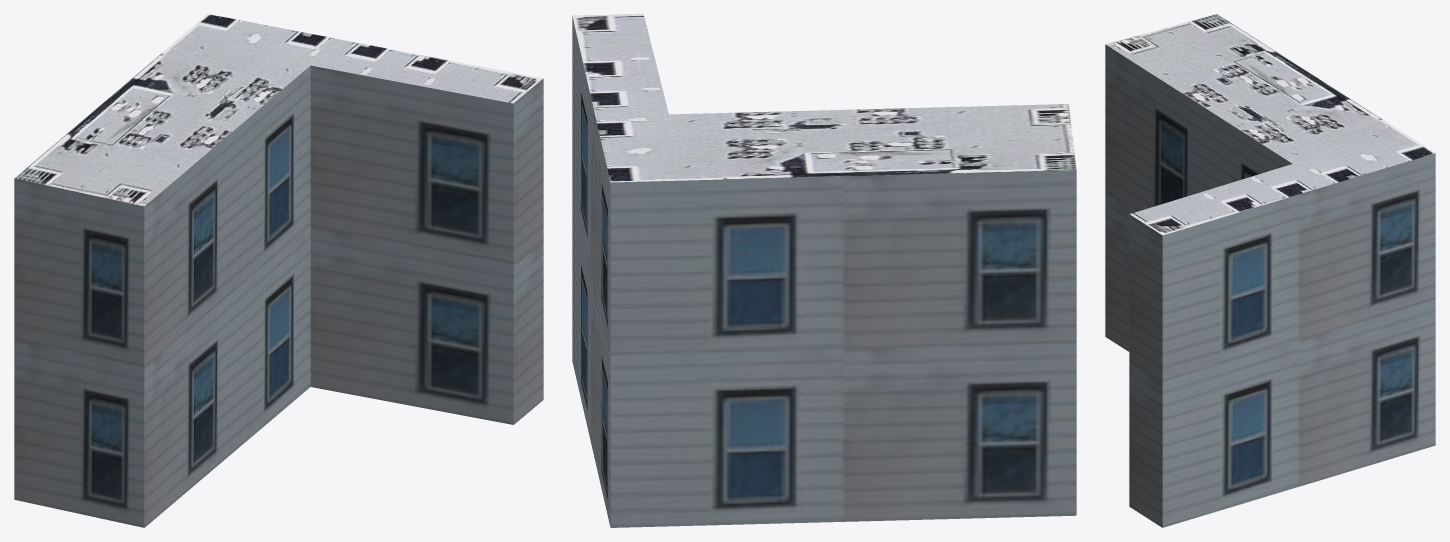
The model's file is ResTex__1654.fbx.
3 renders of one model, left to right at view 1: azimuth 30°, elevation 25°; view 2: azimuth 150°, elevation 25°; view 3: azimuth 270°, elevation 25°, orthographic. The views are drawn at different scales.
Visible parts, largest first — view 1: CityEngineMaterial_18_m, CityEngineMaterial_m; view 2: CityEngineMaterial_18_m, CityEngineMaterial_m; view 3: CityEngineMaterial_18_m, CityEngineMaterial_m.
Boxes of the visible parts, x1,y1,x2,y2 form: CityEngineMaterial_18_m: [14, 65, 543, 527]; CityEngineMaterial_m: [15, 14, 543, 206]; CityEngineMaterial_18_m: [572, 16, 1076, 527]; CityEngineMaterial_m: [572, 14, 1076, 182]; CityEngineMaterial_18_m: [1105, 44, 1435, 527]; CityEngineMaterial_m: [1105, 14, 1435, 235].
Size of the model in its own units: 9.75 by 6 by 6.14.
2 materials, 2 textured.
